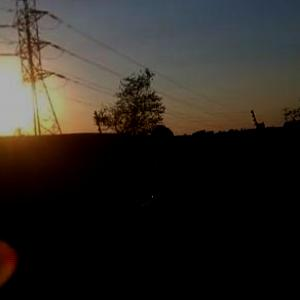follow: (130, 121, 204, 299)
